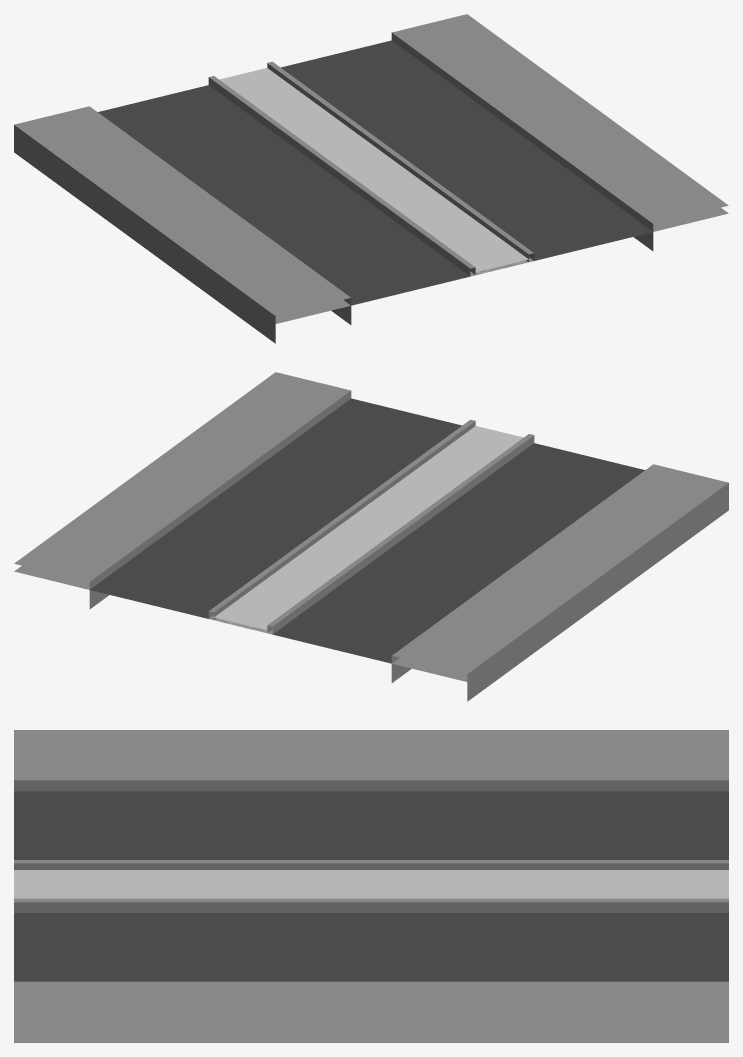
3 renders of one model, top to bottom at view 1: azimuth 30°, elevation 25°; view 2: azimuth 150°, elevation 25°; view 3: azimuth 270°, elevation 25°, orthographic. The views are drawn at different scales.
Parts seen in each view (by area): view 1: Model_0, Skybox, Grass; view 2: Model_0, Grass, Skybox; view 3: Model_0, Skybox, Grass.
Boxes of the visible parts, x1,y1,x2,y2 form: Model_0: (14, 14, 728, 343); Skybox: (98, 87, 728, 323); Grass: (219, 68, 528, 272); Model_0: (14, 372, 728, 701); Grass: (214, 426, 523, 630); Skybox: (14, 450, 638, 681); Model_0: (14, 730, 728, 1032); Skybox: (14, 791, 728, 1042); Grass: (14, 870, 728, 898).
Size of what is drawn, in the model's own units: 2400 by 140 by 2400.
